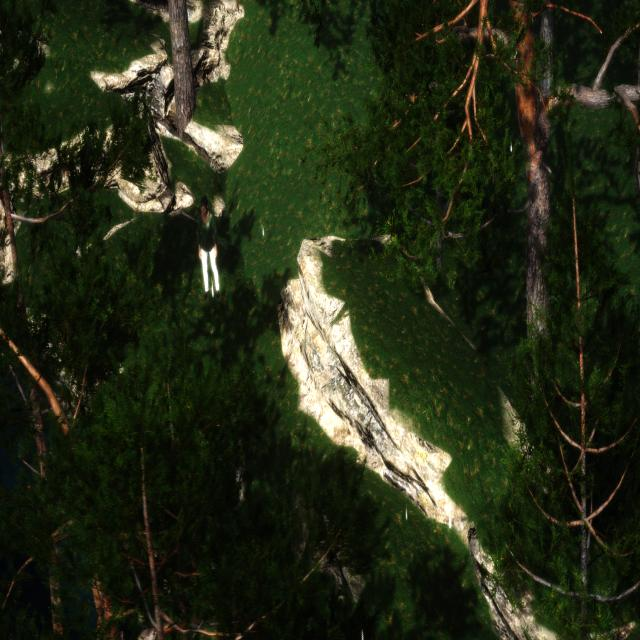Human: (194, 195, 222, 312)
